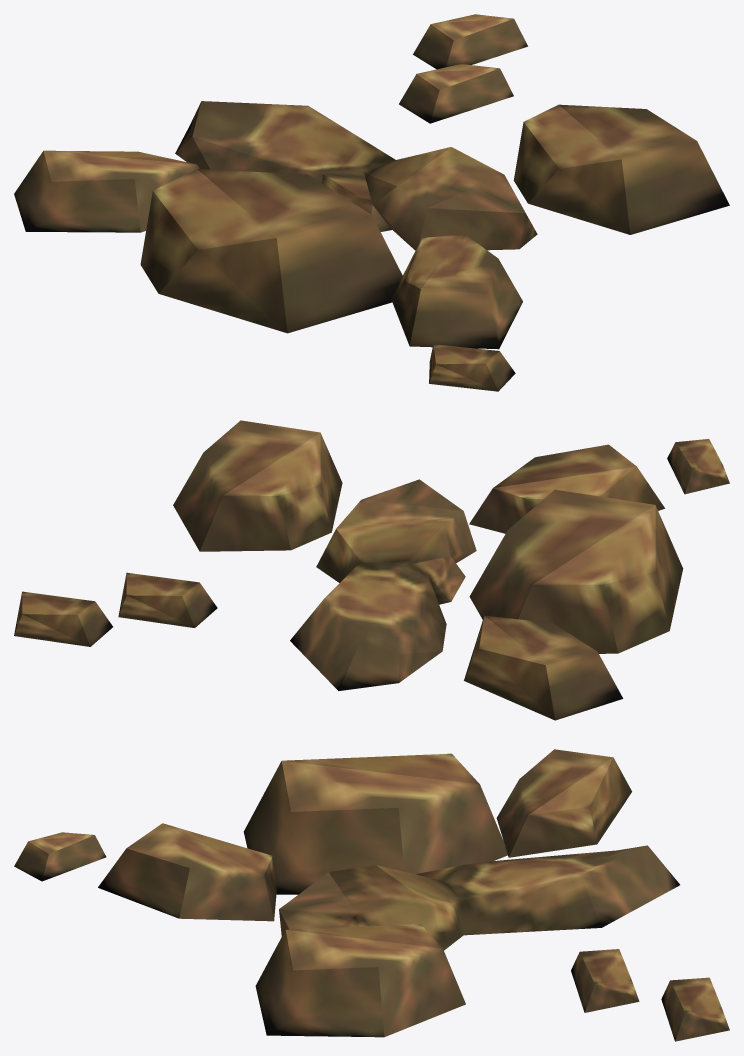
File: nitu01.FBX
3 views of the same model, one above another, from view 1: azimuth 30°, elevation 25°; view 2: azimuth 150°, elevation 25°; view 3: azimuth 270°, elevation 25° (orthographic). The views are drawn at different scales.
Parts seen in each view (by area): view 1: nitu01; view 2: nitu01; view 3: nitu01.
Part boxes in pixels (box(x1,y1,x2,y2)): nitu01: box(14, 14, 729, 391); nitu01: box(14, 420, 729, 720); nitu01: box(14, 749, 729, 1041).
Size of the model in its own units: 23.12 by 3.1 by 26.52.
